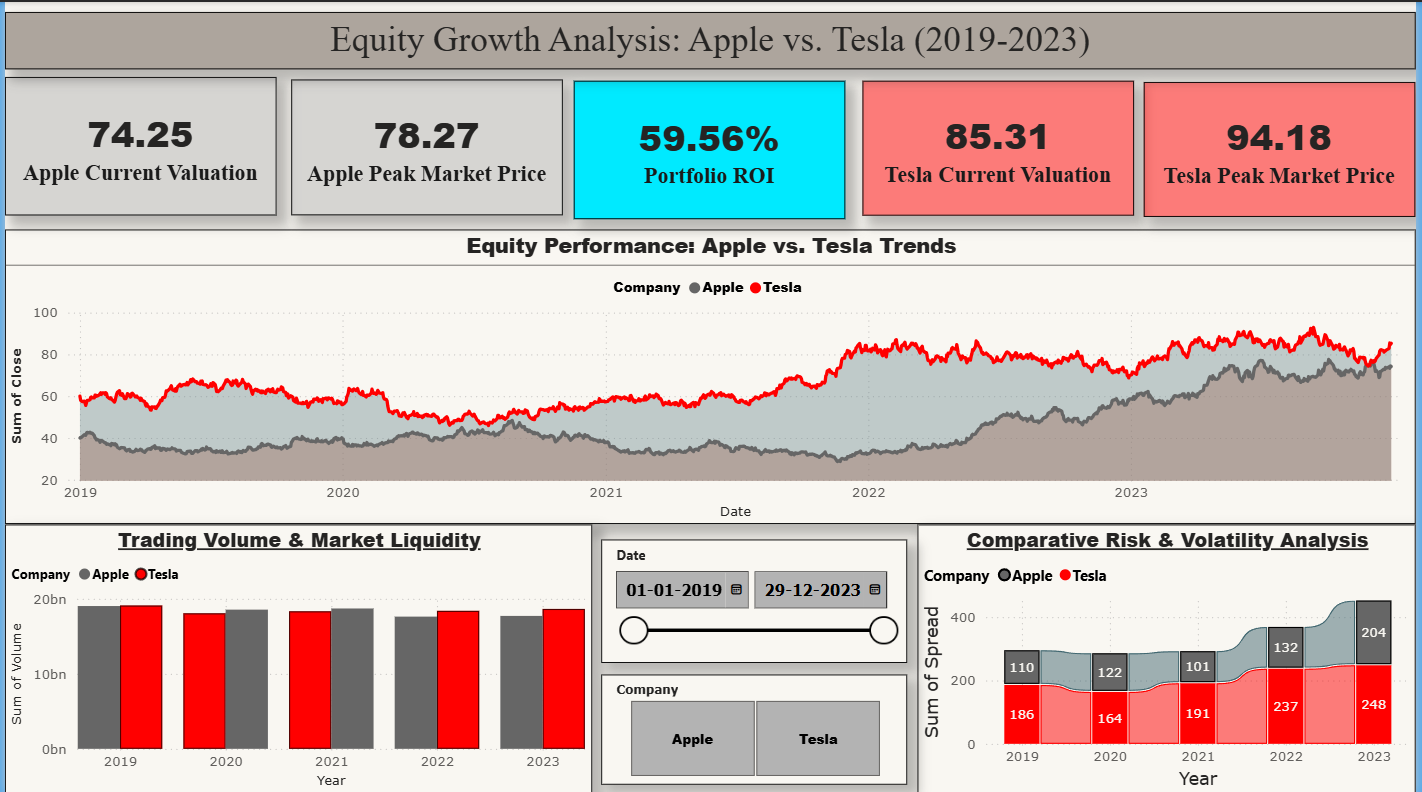

What the dashboard file says about the page in this screenshot:
{"tool":"powerbi","page":{"name":"Page 1","canvas":[1280,720],"ordinal":0},"visuals":[{"type":"lineChart","title":"Equity Performance: Apple vs. Tesla Trends","fields":{"Series":["stockmarket_db stock_market_data.Company"],"Category":["stock_market_data.Date"],"Y":["Sum(stock_market_data.Close)"]},"box":[0,207,1280.2,267.4],"z":0},{"type":"clusteredColumnChart","title":"Trading Volume & Market Liquidity","fields":{"Category":["stockmarket_db stock_market_data.Date.Variation.Date Hierarchy.Year","stockmarket_db stock_market_data.Date.Variation.Date Hierarchy.Quarter","stockmarket_db stock_market_data.Date.Variation.Date Hierarchy.Month","stockmarket_db stock_market_data.Date.Variation.Date Hierarchy.Day"],"Y":["Sum(stockmarket_db stock_market_data.Volume)"],"Series":["stockmarket_db stock_market_data.Company"]},"box":[0,474.4,532.6,245.3],"z":1000},{"type":"card","fields":{"Values":["Key Measures .Apple Latest Close"]},"box":[0,68.6,246.5,125.6],"z":2000},{"type":"card","fields":{"Values":["Key Measures .Tesla Latest Close"]},"box":[777.9,70.9,246.5,122.1],"z":3000},{"type":"card","fields":{"Values":["Key Measures .All Time High"]},"box":[259.3,69.8,246.5,123.3],"z":4000},{"type":"card","fields":{"Values":["Key Measures .Tesla All Time High"]},"box":[1033.7,72.1,246.5,122.1],"z":5000},{"type":"ribbonChart","title":"Comparative Risk & Volatility Analysis","fields":{"Category":["stock_market_data.Date.Variation.Date Hierarchy.Year","stock_market_data.Date.Variation.Date Hierarchy.Quarter","stock_market_data.Date.Variation.Date Hierarchy.Month","stock_market_data.Date.Variation.Date Hierarchy.Day"],"Series":["stock_market_data.Company"],"Y":["Sum(stock_market_data.Spread)"]},"box":[827.9,474.4,452.3,245.3],"z":6000},{"type":"slicer","fields":{"Values":["stock_market_data.Date"]},"box":[540.7,487.2,277.9,111.6],"z":7000},{"type":"slicer","fields":{"Values":["stock_market_data.Company"]},"box":[540.7,610.5,277.9,100],"z":8000},{"type":"card","fields":{"Values":["Key Measures .Growth %"]},"box":[516.3,70.9,246.5,125.6],"z":9000},{"type":"textbox","box":[0,9.3,1280.2,52.3],"z":10000}]}

Visuals, with their boxes in screenshot pixels (x1, y1, x2, y2), scaled from the page's 1280x720 canvas onto the 1422x792 screenshot:
"Equity Performance: Apple vs. Tesla Trends" lineChart: [left=0, top=228, right=1421, bottom=522]
"Trading Volume & Market Liquidity" clusteredColumnChart: [left=0, top=522, right=592, bottom=791]
card - Key Measures .Apple Latest Close: [left=0, top=75, right=274, bottom=214]
card - Key Measures .Tesla Latest Close: [left=864, top=78, right=1138, bottom=212]
card - Key Measures .All Time High: [left=288, top=77, right=562, bottom=212]
card - Key Measures .Tesla All Time High: [left=1148, top=79, right=1421, bottom=214]
"Comparative Risk & Volatility Analysis" ribbonChart: [left=920, top=522, right=1421, bottom=791]
slicer - stock_market_data.Date: [left=601, top=536, right=909, bottom=659]
slicer - stock_market_data.Company: [left=601, top=672, right=909, bottom=782]
card - Key Measures .Growth %: [left=574, top=78, right=847, bottom=216]
textbox: [left=0, top=10, right=1421, bottom=68]
